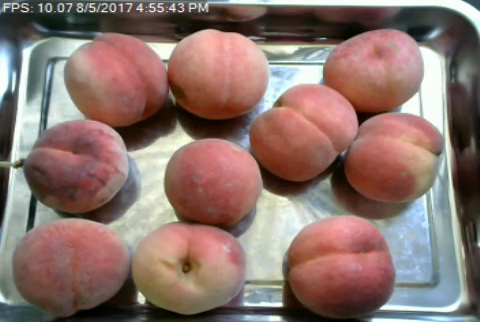Peach: (283, 215, 396, 319), (10, 217, 128, 316), (248, 82, 358, 181), (135, 222, 245, 316), (23, 117, 128, 213), (63, 32, 169, 127), (167, 26, 269, 120), (321, 25, 424, 114), (343, 111, 442, 203), (163, 137, 262, 226)
